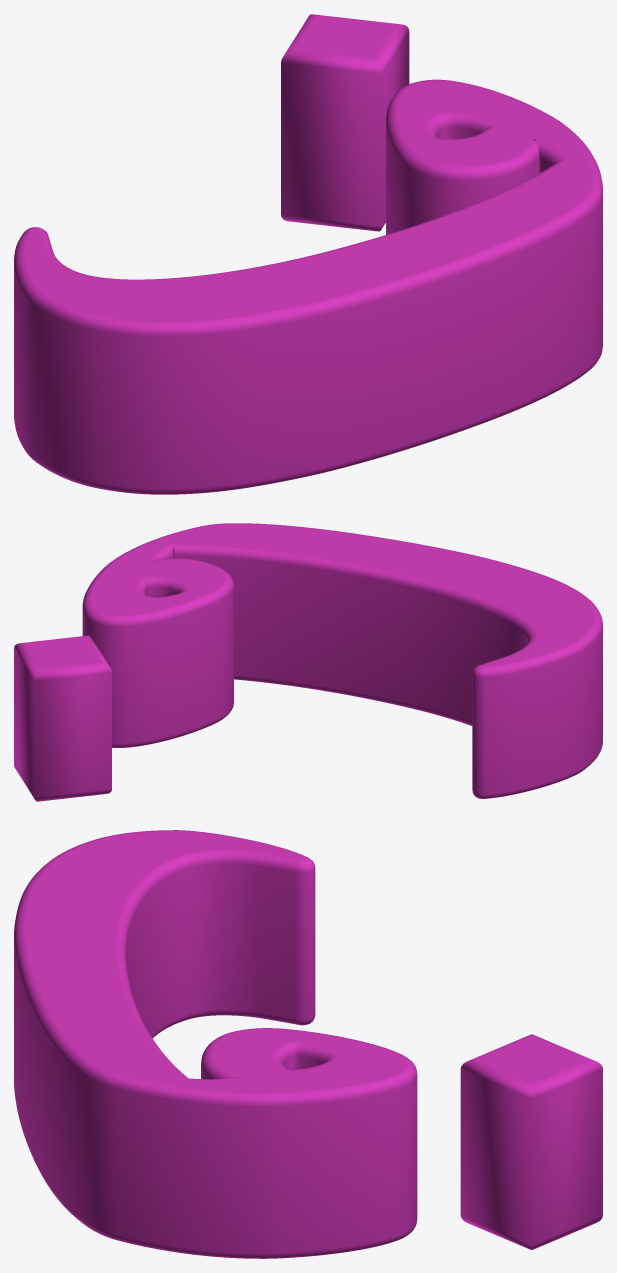
The picture shows the model from 3 angles, top to bottom: view 1: azimuth 30°, elevation 25°; view 2: azimuth 150°, elevation 25°; view 3: azimuth 270°, elevation 25°; orthographic projection. The views are drawn at different scales.
Visible parts, largest first — view 1: Text.112; view 2: Text.112; view 3: Text.112.
Part boxes in pixels (bbox=[...]): Text.112: bbox=[14, 14, 602, 494]; Text.112: bbox=[14, 523, 602, 801]; Text.112: bbox=[14, 830, 602, 1258].
Bounding box in the file's own units: 63.58 × 18 × 58.41.
